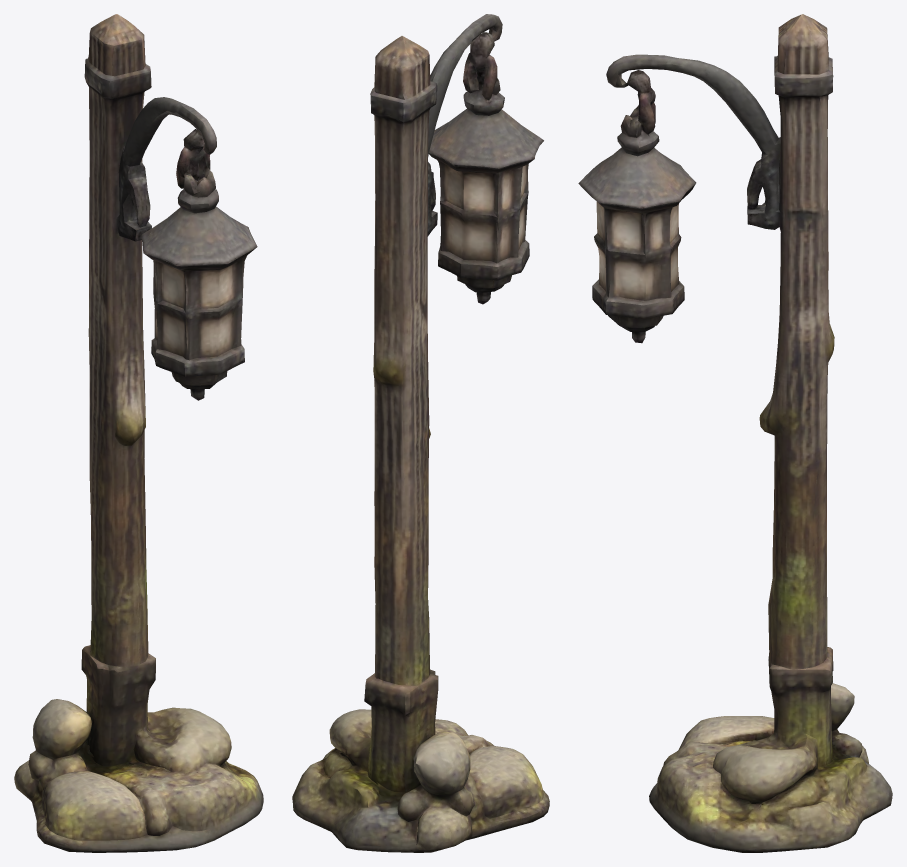
File: prop-lantern-post.glb
The picture shows the model from 3 angles, left to right: view 1: azimuth 30°, elevation 25°; view 2: azimuth 150°, elevation 25°; view 3: azimuth 270°, elevation 25°; orthographic projection.
Parts seen in each view (by area): view 1: prop-lantern-post; view 2: prop-lantern-post; view 3: prop-lantern-post.
Boxes of the visible parts, box(x1,y1,x2,y2) form: prop-lantern-post: box(14, 14, 263, 852); prop-lantern-post: box(292, 14, 549, 852); prop-lantern-post: box(578, 14, 892, 852).
Size of the model in its own units: 0.9936 by 3.42 by 1.24.
Materials: 1 (1 with a texture image).
